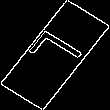L_SE: (21, 28, 89, 82)
